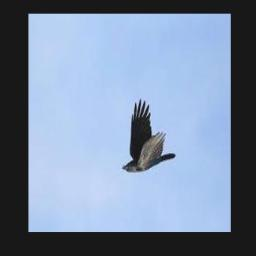Crow: (122, 99, 175, 172)
